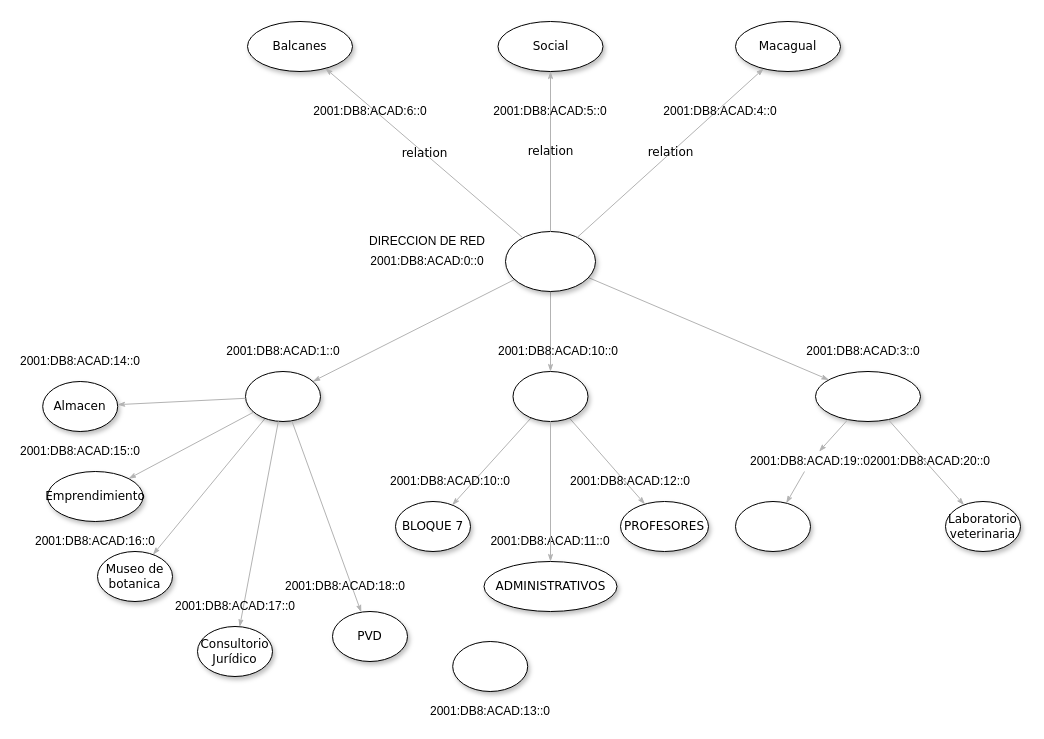
Some shapes in this 1044 by 739 pixel diagram are drawn without their labels. The centre of each missing label's shape, as x and y in pixels:
"Centro" belongs at pixel 283 397.
"Laboratorio osteología" belongs at pixel 773 527.
"Porvenir" belongs at pixel 551 397.
"Santo Domingo" belongs at pixel 868 397.
"Universidad de la Amazonia" belongs at pixel 551 262.
"WIFI" belongs at pixel 491 667.
